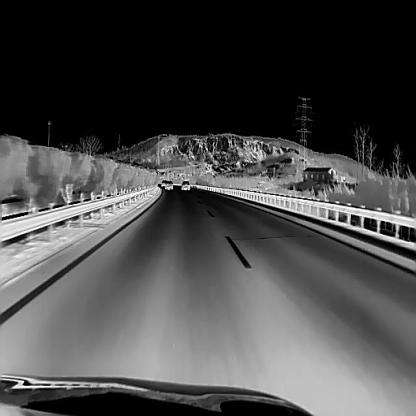car: (180, 180, 189, 190), (164, 180, 172, 188), (160, 179, 166, 186)
